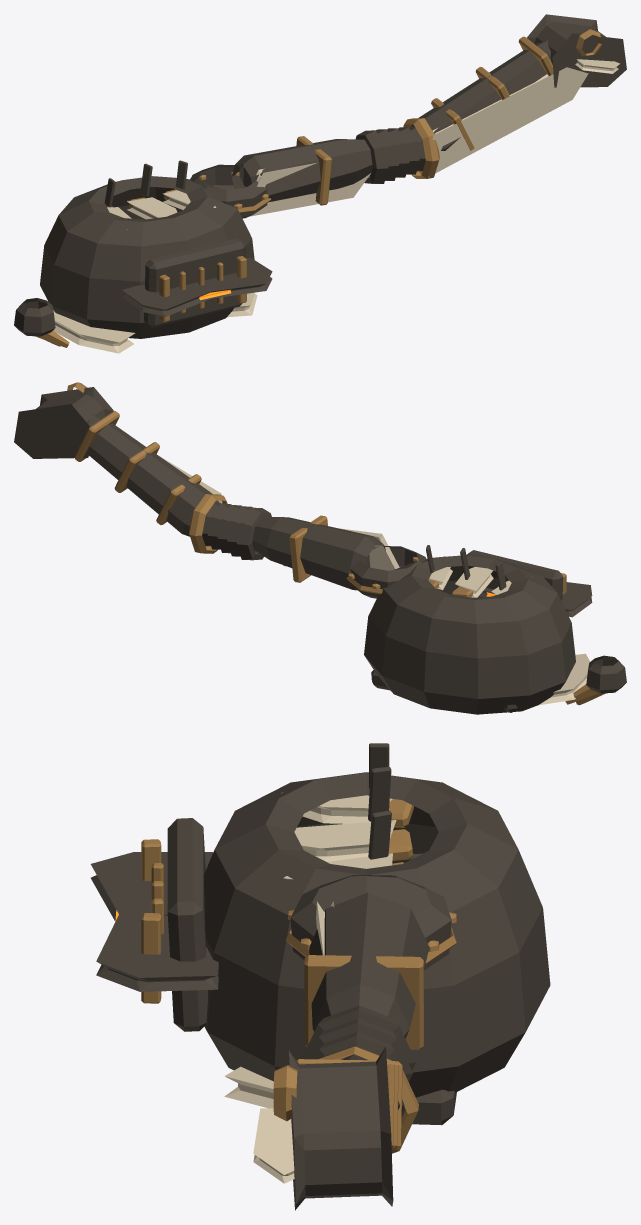
File: kiln_reliquary.glb
The picture shows the model from 3 angles, top to bottom: view 1: azimuth 30°, elevation 25°; view 2: azimuth 150°, elevation 25°; view 3: azimuth 270°, elevation 25°; orthographic projection. The views are drawn at different scales.
Parts seen in each view (by area): view 1: furnace_cast_shell, forearm_ivory_spine, upper_arm_cast, firebox_recess, driver_wedge_head, forearm_cast, rotary_cast_housing, left_shutter_plate, left_ivory_shoulder, upper_arm_ivory_slab, right_shutter_plate, brace_wrist_cast (+9 smaller); view 2: furnace_cast_shell, forearm_cast, upper_arm_cast, driver_wedge_head, rotary_cast_housing, brace_wrist_cast, firebox_recess, elbow_brass_collar, bellows_fold, left_ivory_shoulder, left_shutter_plate, upper_arm_brass_girdle (+8 smaller); view 3: furnace_cast_shell, driver_wedge_head, upper_arm_cast, firebox_recess, right_shutter_plate, left_shutter_plate, upper_arm_brass_girdle, rotary_cast_housing, ceramic_memory_shard.001, driver_ivory_face, bellows_fold, bellows_fold.001 (+12 smaller).
Boxes of the visible parts, x1,y1,x2,y2 form: furnace_cast_shell: (40, 176, 254, 338); forearm_ivory_spine: (428, 67, 588, 177); upper_arm_cast: (232, 139, 372, 202); firebox_recess: (144, 238, 245, 327); driver_wedge_head: (527, 14, 626, 87); forearm_cast: (411, 40, 552, 150); rotary_cast_housing: (190, 164, 267, 218); left_shutter_plate: (122, 282, 210, 316); left_ivory_shoulder: (53, 310, 135, 353); upper_arm_ivory_slab: (249, 162, 370, 216); right_shutter_plate: (203, 257, 272, 298); brace_wrist_cast: (14, 298, 55, 336); furnace_cast_shell: (364, 555, 575, 714); forearm_cast: (88, 414, 218, 536); upper_arm_cast: (252, 516, 385, 590); driver_wedge_head: (14, 387, 113, 458); rotary_cast_housing: (350, 546, 426, 598); brace_wrist_cast: (586, 655, 626, 693); firebox_recess: (466, 550, 563, 600); elbow_brass_collar: (189, 494, 227, 553); bellows_fold: (236, 507, 271, 560); left_ivory_shoulder: (538, 653, 589, 705); left_shutter_plate: (561, 582, 592, 617); upper_arm_brass_girdle: (289, 515, 327, 582); furnace_cast_shell: (204, 772, 550, 1097); driver_wedge_head: (288, 1047, 393, 1210); upper_arm_cast: (309, 892, 429, 1038); firebox_recess: (167, 818, 208, 1031); right_shutter_plate: (96, 912, 218, 991); left_shutter_plate: (90, 852, 212, 920); upper_arm_brass_girdle: (304, 955, 423, 1049); rotary_cast_housing: (290, 875, 451, 970); ceramic_memory_shard.001: (294, 820, 396, 861); driver_ivory_face: (253, 1108, 294, 1183); bellows_fold: (302, 1005, 416, 1070); bellows_fold.001: (308, 1018, 412, 1081).
Size of the model in its own units: 10.65 by 3.37 by 3.59.
